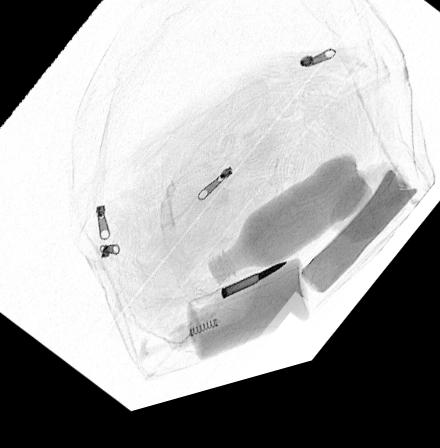Bullet: (219, 277, 287, 311)
